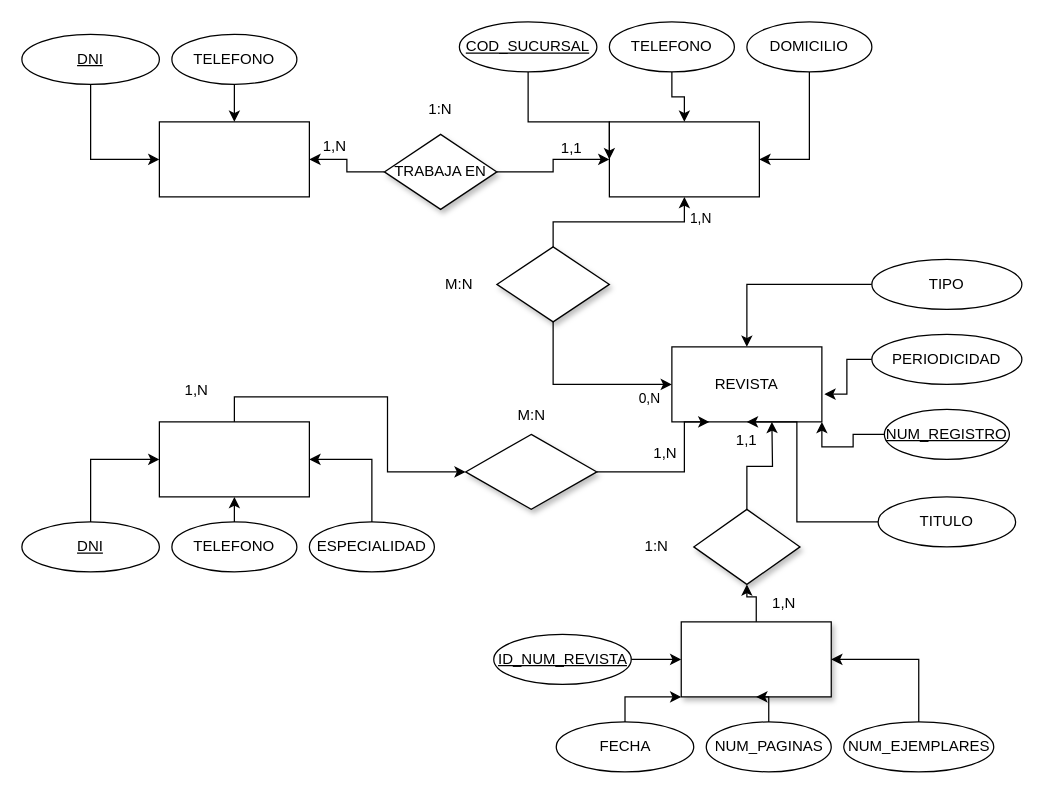
This 1044x794 diagram has some shape labels left out. The centre of each missing label's shape, as x and y in pixels:
"EMPLEADO" belongs at (x=233, y=159).
"ESCRIBE PARA" belongs at (x=531, y=473).
"NUM_REVISTA" belongs at (x=757, y=661).
"PERIODISTA" belongs at (x=233, y=459).
"PERTENECE" belongs at (x=748, y=548).
"PUBLICA" belongs at (x=554, y=286).
"SUCURSAL" belongs at (x=683, y=159).
